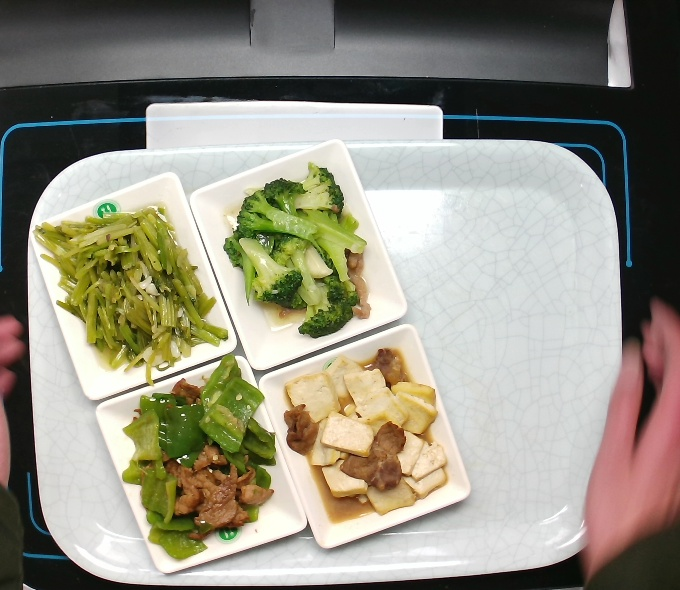wcq-DouFuRouPian: (282, 342, 456, 524)
wcq-QinCai: (32, 200, 230, 375)
wcq-QingJiaoChaoRou: (110, 356, 290, 562)
wcq-XiLanHua: (221, 158, 382, 341)
